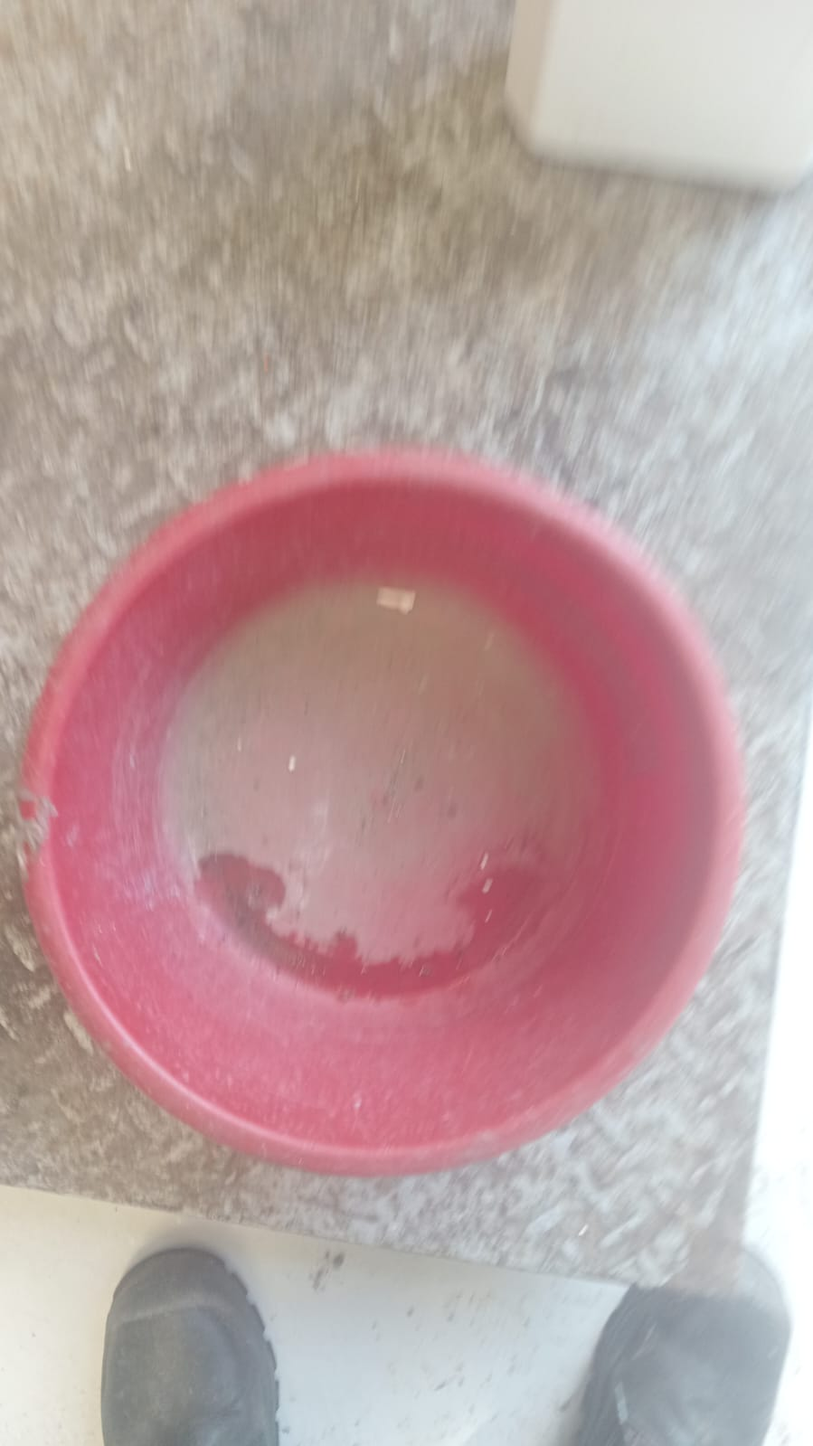Plastico: (22, 452, 748, 1178)
